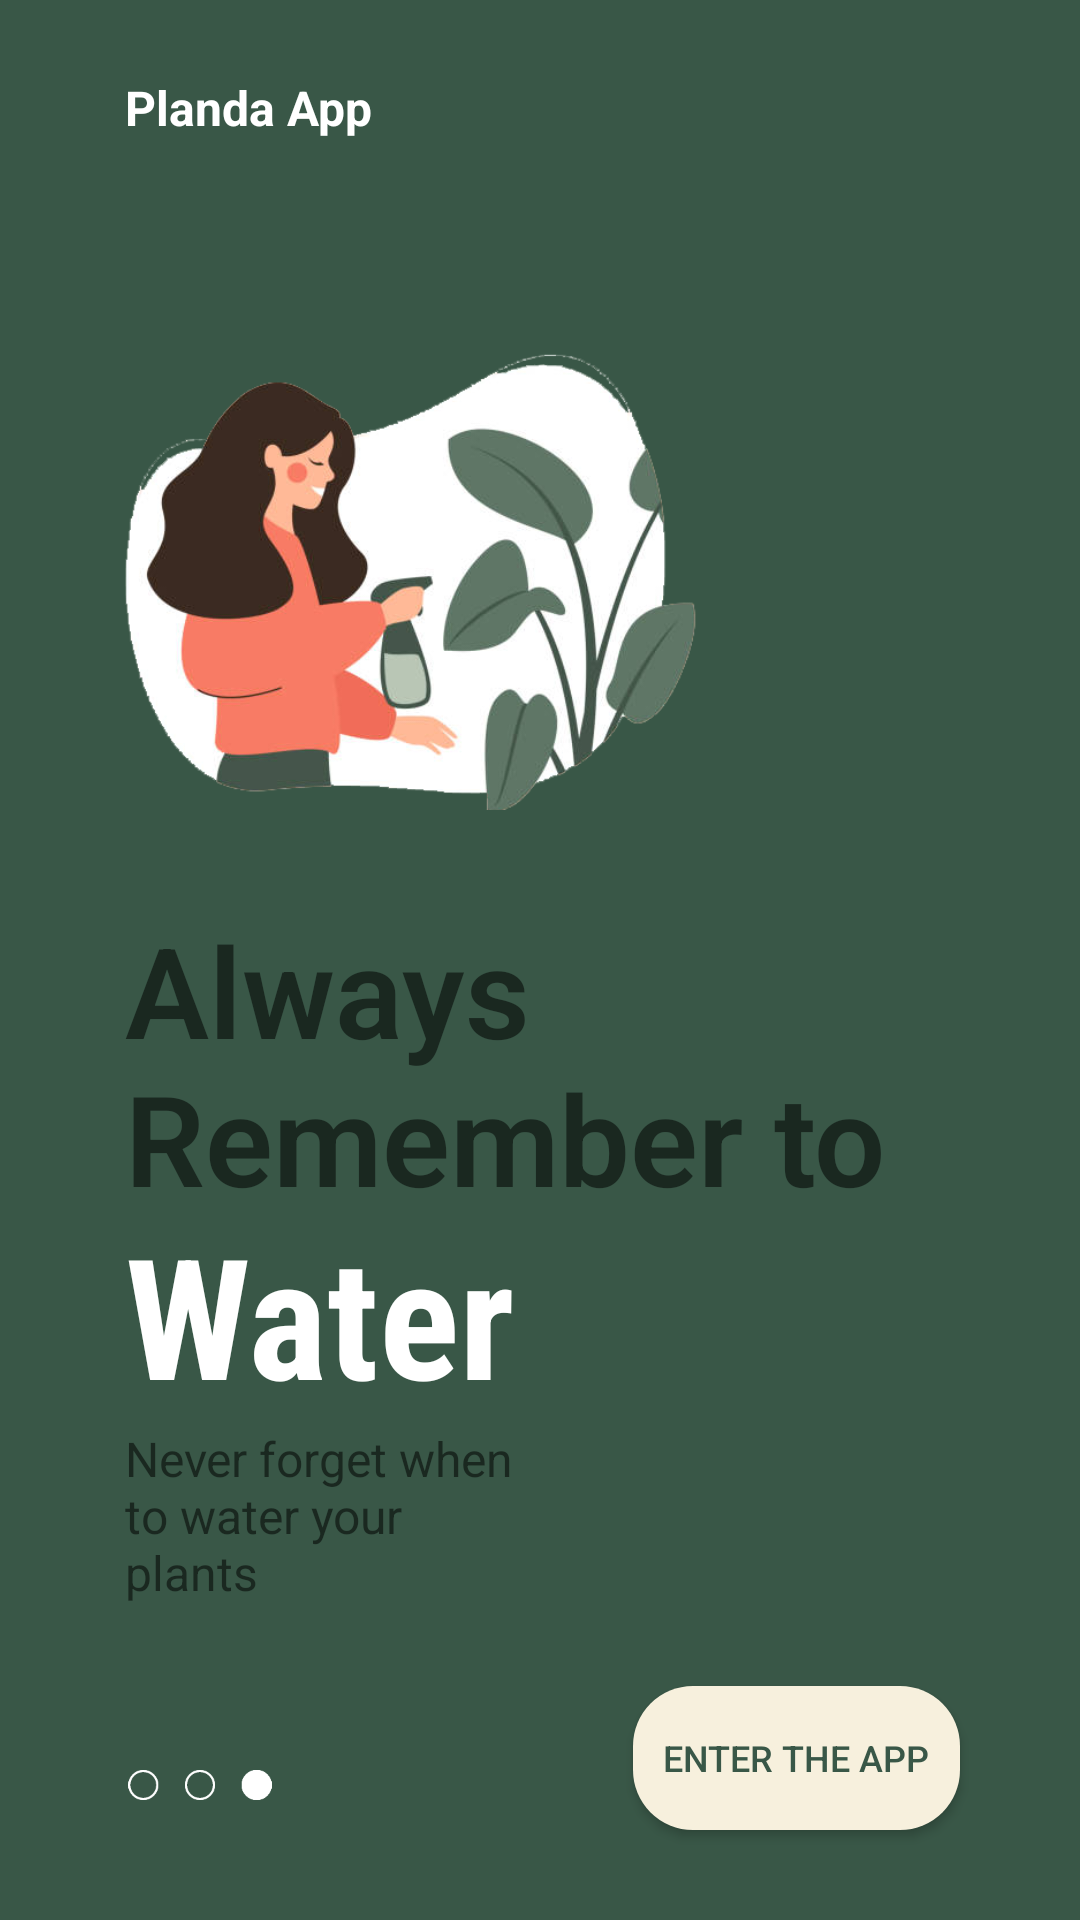

Named icons in this screenshot (1080 x 1920) and their centers, (x,y):
tab: (200,1785)
